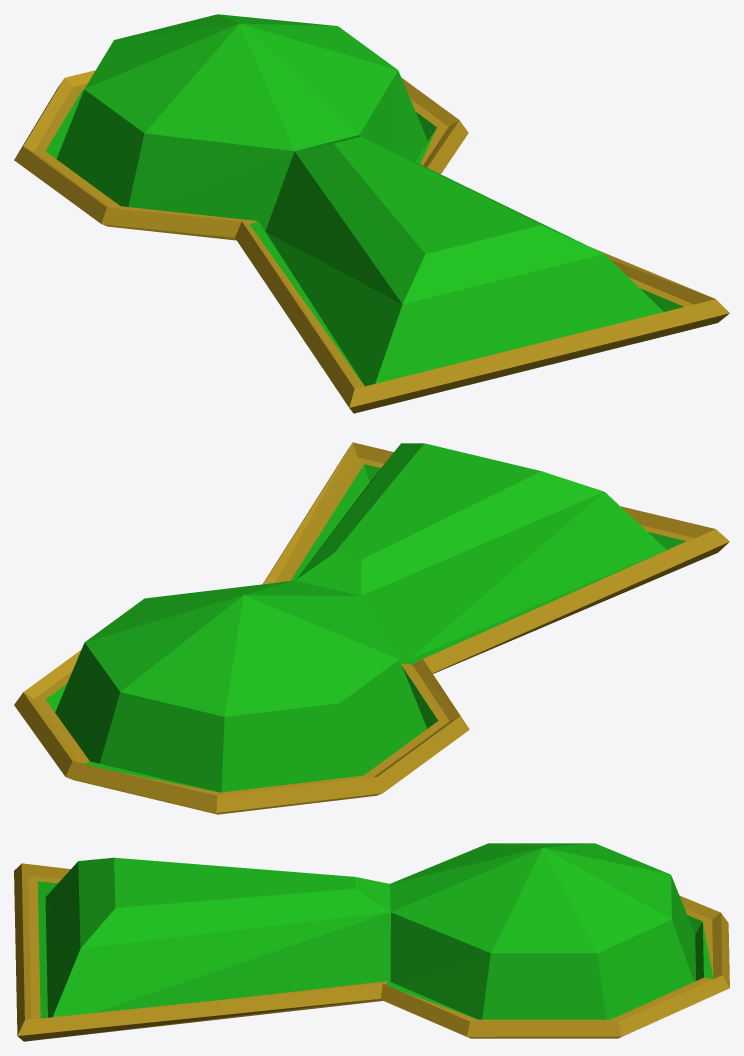
File: Key1.obj
3 renders of one model, top to bottom at view 1: azimuth 30°, elevation 25°; view 2: azimuth 150°, elevation 25°; view 3: azimuth 270°, elevation 25°, orthographic. The views are drawn at different scales.
Visible parts, largest first — view 1: Keyhole_Pi_Keyhole_Pi, BottomKey_BottomKey; view 2: Keyhole_Pi_Keyhole_Pi, BottomKey_BottomKey; view 3: Keyhole_Pi_Keyhole_Pi, BottomKey_BottomKey.
Part boxes in pixels (x1,y1,x2,y2): Keyhole_Pi_Keyhole_Pi: [45, 14, 683, 386]; BottomKey_BottomKey: [14, 70, 729, 413]; Keyhole_Pi_Keyhole_Pi: [45, 443, 686, 792]; BottomKey_BottomKey: [14, 442, 729, 814]; Keyhole_Pi_Keyhole_Pi: [37, 843, 713, 1019]; BottomKey_BottomKey: [14, 863, 729, 1041].
Size of the model in its own units: 6 by 1.94 by 11.
